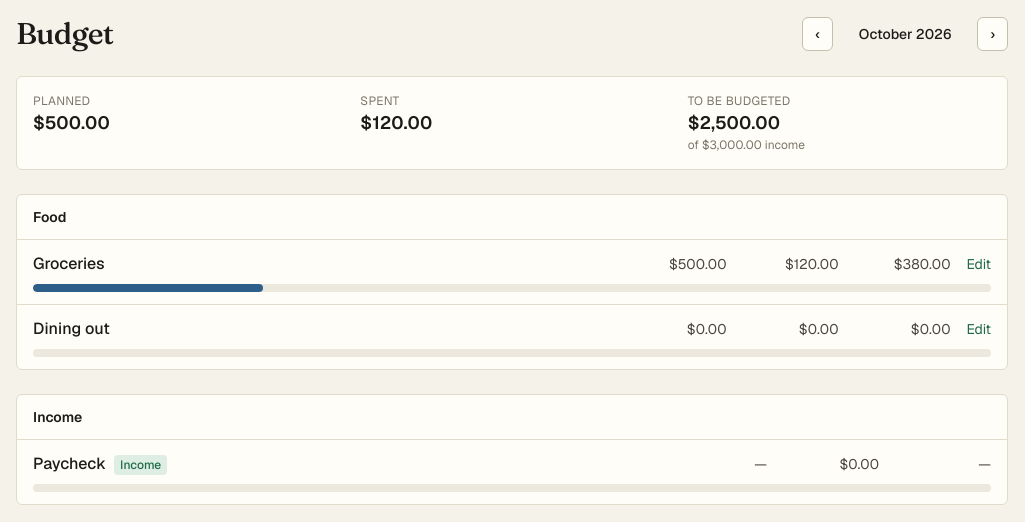
Scenario: BudgetPage › does not render the old month while a new month loads
The width and height of the screenshot is (1025, 522).
Check: the element "Food" is shown, box x1=16 y1=194 x2=1008 y2=370
Click the button named "Previous month": (818, 34) x1=802 y1=17 x2=833 y2=51
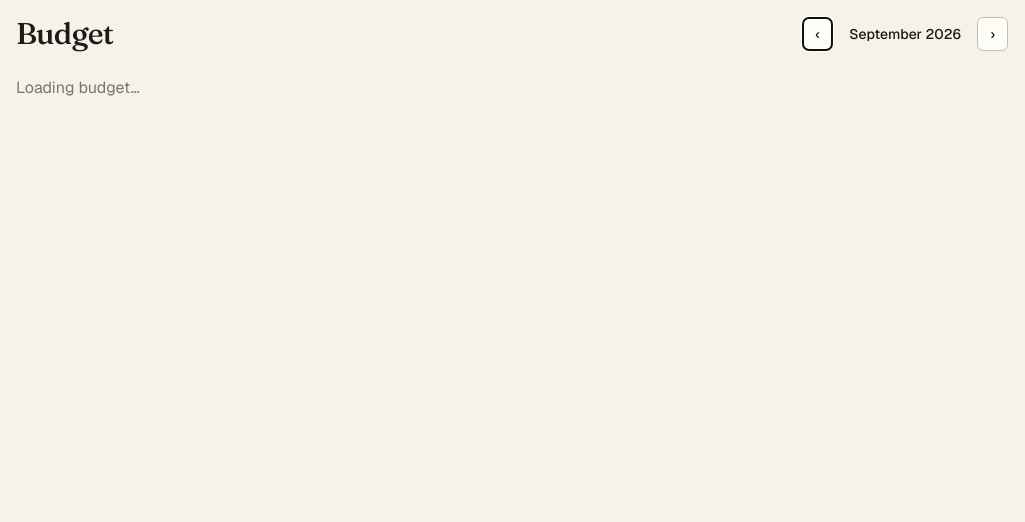
Check: the text "Loading budget…" is shown, box x1=16 y1=77 x2=140 y2=98
Check: the heading "Food" is gone
